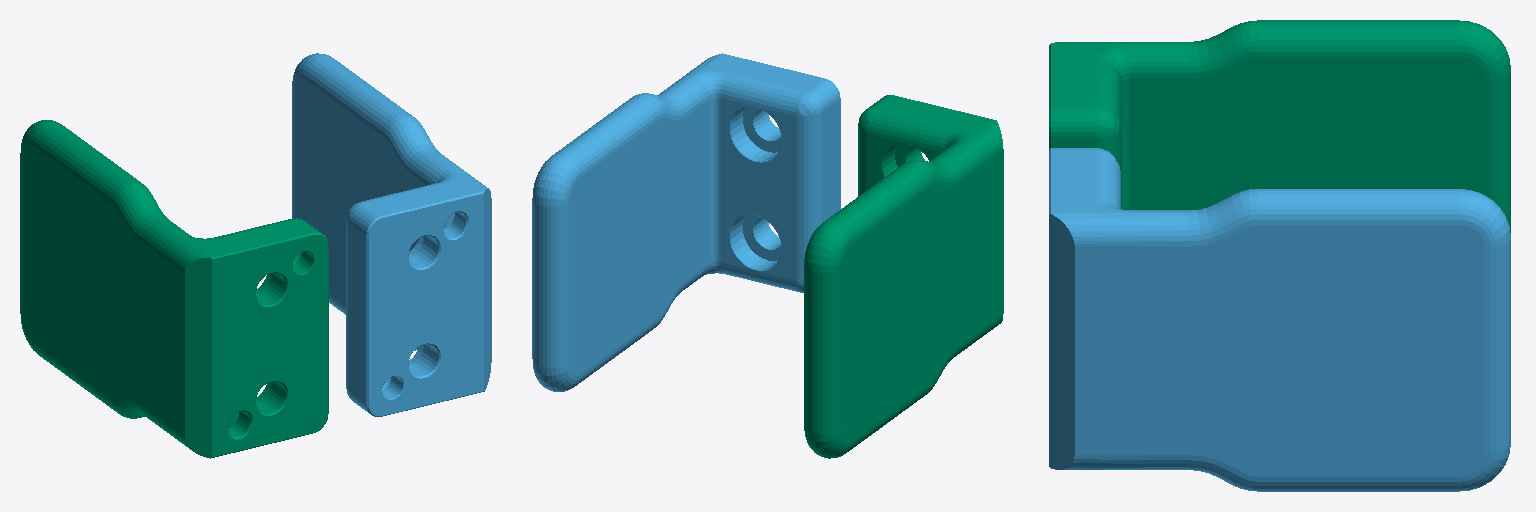
URDF robot description (gripper_2f):
<?xml version="1.0"?>

<robot name="gripper_2f">

  <link name="base_gripper">
    <visual>
      <origin rpy="0 0 0" xyz="0 0 0"/>
      <geometry>
        <mesh filename="package://my_gripper_description/meshes/gripper_body.dae"/>
      </geometry>
    </visual>
    <collision>
      <origin rpy="0 0 0" xyz="0 0 0"/>
      <geometry>
        <mesh filename="package://my_gripper_description/meshes/gripper_body.stl" scale="0.001 0.001 0.001"/>
      </geometry>
    </collision>
    <inertial>
      <origin xyz="0 0.06 0.04" rpy="0 0 0"/>
      <mass value="0.5"/>
      <inertia
        ixx="0.01" ixy="0.0" ixz="0.0"
        iyy="0.01" iyz="0.0"
        izz="0.01"/>
  	</inertial>
  </link>

  <link name="finger_1">
    <visual>
      <origin rpy="0 0 0" xyz="0 0 0"/>
      <geometry>
          <mesh filename="package://my_gripper_description/meshes/finger_1.stl" scale="0.001 0.001 0.001"/>
      </geometry>
    </visual>
    <collision>
      <origin rpy="0 0 0" xyz="0 0 0"/>
      <geometry>
          <mesh filename="package://my_gripper_description/meshes/finger_1.stl" scale="0.001 0.001 0.001"/>
      </geometry>
    </collision>
    <inertial>
      <origin xyz="0 0 0.05" rpy="0 0 0"/>
      <mass value="0.01"/>
      <inertia
        ixx="0.001" ixy="0.0" ixz="0.0"
        iyy="0.001" iyz="0.0"
        izz="0.001"/>
      </inertial>
  </link>

  <link name="finger_2">
    <visual>
      <origin rpy="0 0 0" xyz="0 0 0"/>
      <geometry>
          <mesh filename="package://my_gripper_description/meshes/finger_2.stl" scale="0.001 0.001 0.001"/>
      </geometry>
    </visual>
    <collision>
     <origin rpy="0 0 0" xyz="0 0 0"/>
      <geometry>
          <mesh filename="package://my_gripper_description/meshes/finger_2.stl" scale="0.001 0.001 0.001"/>
      </geometry>
    </collision>
    <inertial>
      <origin xyz="0 0 0.05" rpy="0 0 0"/>
      <mass value="0.01"/>
      <inertia
        ixx="0.001" ixy="0.0" ixz="0.0"
        iyy="0.001" iyz="0.0"
        izz="0.001"/>
      </inertial>
  </link>

  <joint name="base_to_finger_1" type="prismatic">
    <parent link="base_gripper"/>
    <child link="finger_1"/>  
    <axis xyz="1 0 0"/>
    <origin rpy="0 0 0" xyz="0.012 0.111 0"/>
	  <limit effort="100" velocity="100" lower="0" upper="0.01"/>

  </joint>
  <transmission name="trans_base_to_finger_1">
      <type> transmission_interface/SimpleTransmission </type>
      <joint name="base_to_finger_1">
        <hardwareInterface> hardware_interface/EffortJointInterface </hardwareInterface>
      </joint>
      <actuator name="motor_base_to_finger_1">
        <hardwareInterface> hardware_interface/EffortJointInterface </hardwareInterface>
        <mechanicalReduction> 1 </mechanicalReduction>
      </actuator>
   </transmission>

  <joint name="base_to_finger_2" type="prismatic">
    <parent link="base_gripper"/>
    <child link="finger_2"/>  
    <axis xyz="1 0 0"/>
    <origin rpy="0 0 0" xyz="-0.012 0.111 0"/>
  	<limit effort="100" velocity="100" lower="-0.01" upper="0"/>   
    <mimic joint="base_to_finger_1" multiplier="-1.0" offset="0"/>

  </joint>
  <transmission name="trans_base_to_finger_2">
      <type> transmission_interface/SimpleTransmission </type>
      <joint name="base_to_finger_2">
        <hardwareInterface> hardware_interface/EffortJointInterface </hardwareInterface>
      </joint>
      <actuator name="motor_base_to_finger_2">
        <hardwareInterface> hardware_interface/EffortJointInterface </hardwareInterface>
        <mechanicalReduction> 1 </mechanicalReduction>
      </actuator>
  </transmission>

  <gazebo reference="finger_1">
    <material>Gazebo/Grey</material>
  </gazebo>
  <gazebo reference="finger_2">
    <material>Gazebo/Grey</material>
  </gazebo>
  <gazebo>
    <plugin filename="libgazebo_ros_control.so" name="gazebo_ros_control">
      <robotNamesapce>/gripper_2fs</robotNamesapce>
    </plugin>
  </gazebo>
  <gazebo>
          <!-- loading plugin: mimic joints works in gazebo now -->
      <plugin filename="libroboticsgroup_gazebo_mimic_joint_plugin.so" name="mimic_2f">
          <joint>base_to_finger_1</joint>
          <mimicJoint>base_to_finger_2</mimicJoint>
          <multiplier>-1.0</multiplier>
      </plugin>
      
  </gazebo>


</robot>

--- Render facts (derived) ---
The picture shows the robot from 3 angles, left to right: view 1: azimuth 30°, elevation 25°; view 2: azimuth 150°, elevation 25°; view 3: azimuth 270°, elevation 25°; orthographic projection.
Model gripper_2f with 3 links and 2 joints (2 prismatic), rooted at base_gripper, posed every joint at zero.
Visible links, largest first — view 1: finger_2, finger_1; view 2: finger_1, finger_2; view 3: finger_1, finger_2.
Link boxes in pixels (<box>): finger_2: <box>20,120,328,458</box>; finger_1: <box>292,53,491,416</box>; finger_1: <box>532,53,840,391</box>; finger_2: <box>804,95,1003,458</box>; finger_1: <box>1049,148,1510,491</box>; finger_2: <box>1049,20,1510,232</box>.
Size in the robot's own frame: 0.0438 by 0.045 by 0.032 metres.
2 mesh visuals loaded from 3 distinct referenced files (2 binary STL); not drawn: 1 (reference not matched to a file when rendering).